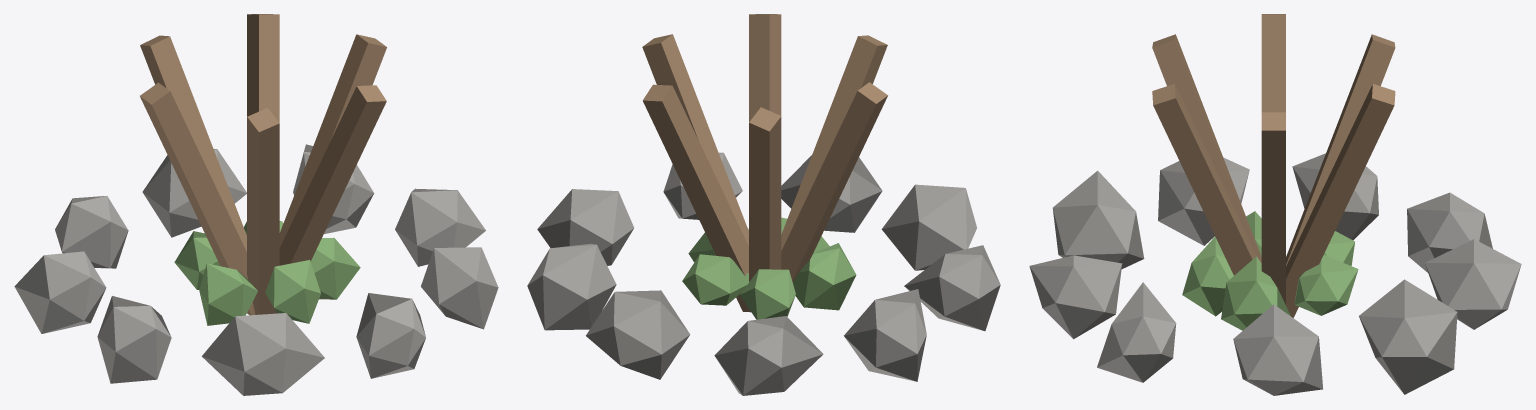
File: build_campfire.glb
3 views of the same model, side by side, from view 1: azimuth 30°, elevation 25°; view 2: azimuth 150°, elevation 25°; view 3: azimuth 270°, elevation 25° (orthographic). The views are drawn at different scales.
Visible parts, largest first — view 1: Baked; view 2: Baked; view 3: Baked.
Part boxes in pixels (bbox=[...]): Baked: bbox=[14, 14, 498, 395]; Baked: bbox=[527, 14, 1000, 395]; Baked: bbox=[1029, 14, 1521, 395].
Size of the model in its own units: 1.01 by 0.5922 by 1.02.
